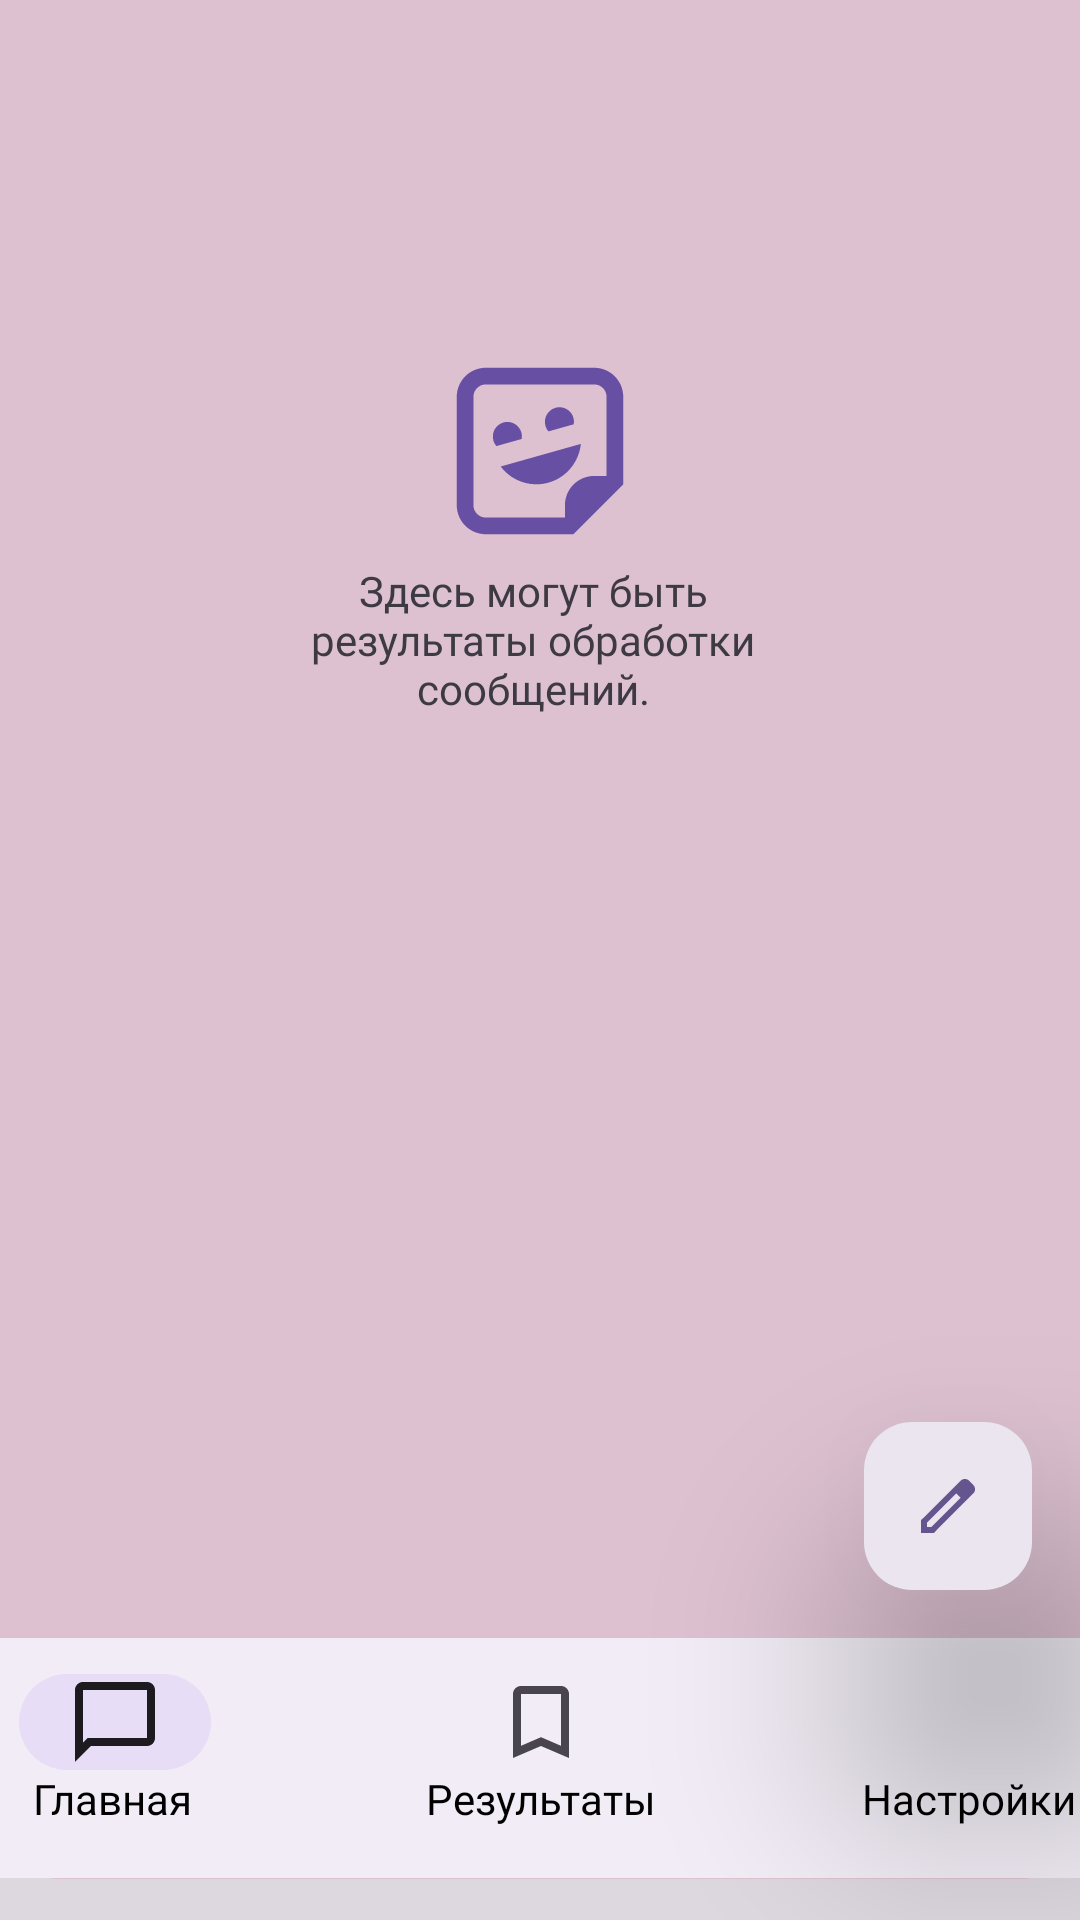

Screen size 1080w x 1920h. Icon name, then its box in pixels as BBox(x1, y1, x2, y2):
chat bubble: BBox(19, 1674, 211, 1770)
sticker: BBox(456, 367, 624, 535)
